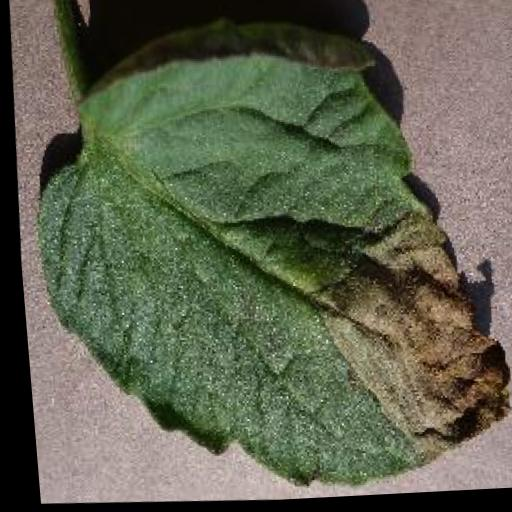Late Blight: (10, 7, 512, 509)
